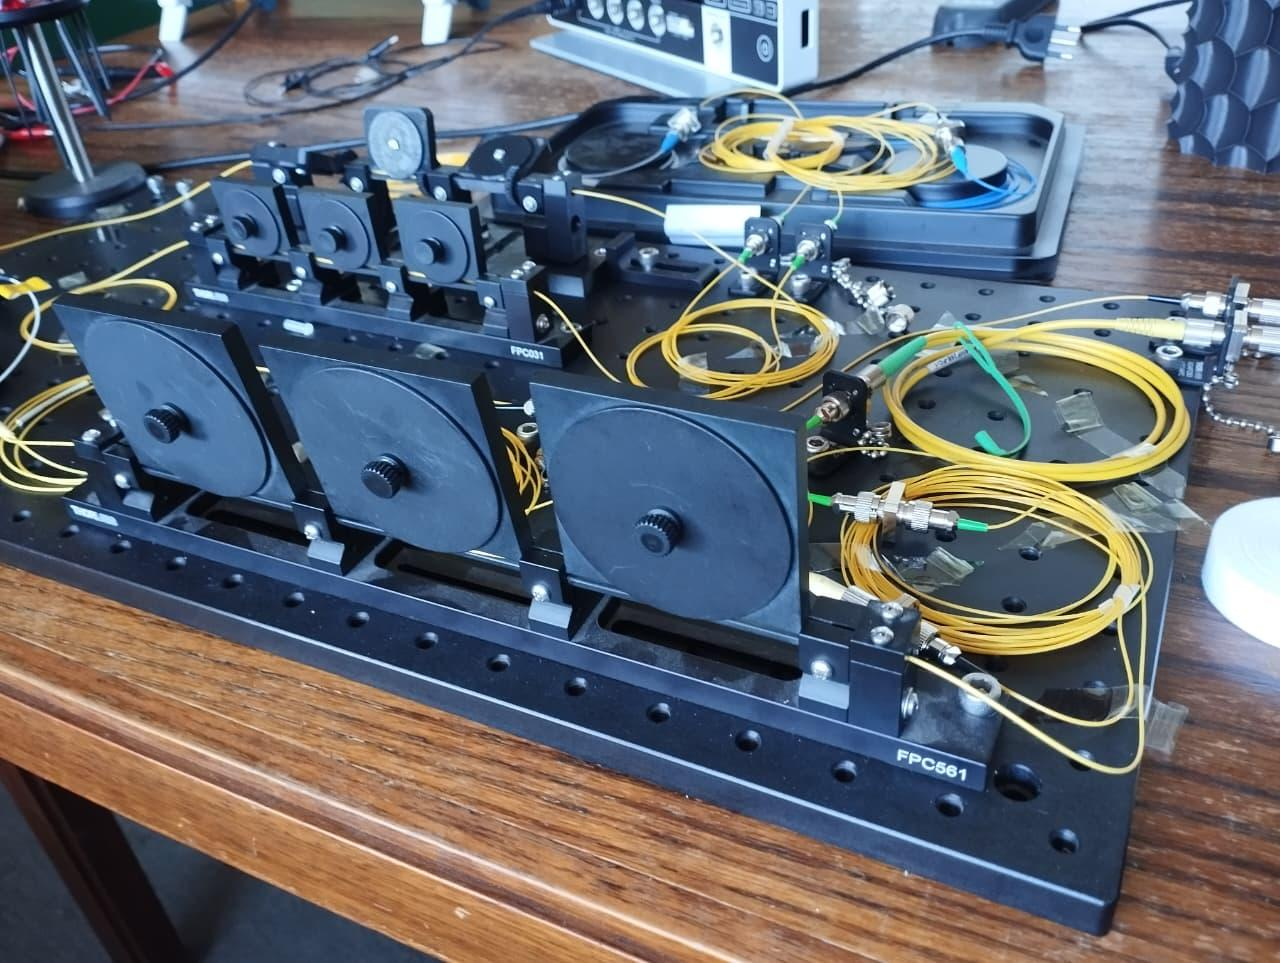fiber_cable: (834, 458, 1226, 766), (849, 262, 1199, 502)
paddle_polarization_controller: (48, 308, 1058, 812), (182, 171, 591, 378), (244, 98, 655, 290)
